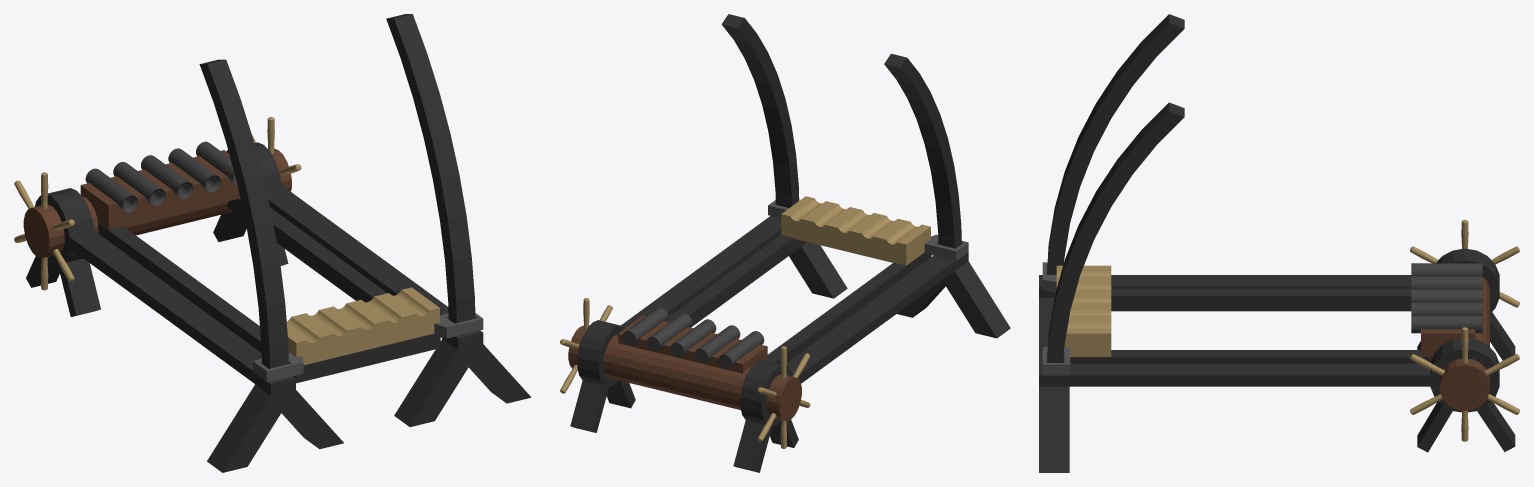
Rendered from Rocket Launcher With Pivot.fbx.
The picture shows the model from 3 angles, left to right: view 1: azimuth 30°, elevation 25°; view 2: azimuth 150°, elevation 25°; view 3: azimuth 270°, elevation 25°; orthographic projection. The views are drawn at different scales.
Visible parts, largest first — view 1: Launcher Base, Launcher Pivot; view 2: Launcher Base, Launcher Pivot; view 3: Launcher Base, Launcher Pivot.
Part boxes in pixels (x1,y1,x2,y2): Launcher Base: [26, 14, 531, 472]; Launcher Pivot: [14, 117, 483, 383]; Launcher Base: [570, 14, 1010, 472]; Launcher Pivot: [560, 196, 968, 448]; Launcher Base: [1039, 14, 1515, 472]; Launcher Pivot: [1042, 220, 1519, 441].
Bounding box in the file's own units: 2.24 × 2.43 × 3.11.
